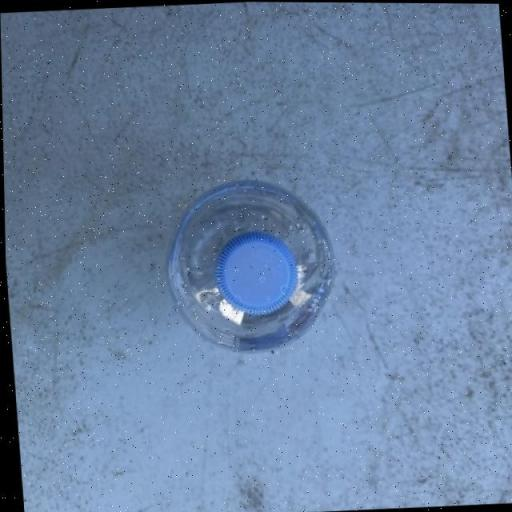plastic: (158, 174, 340, 356)
